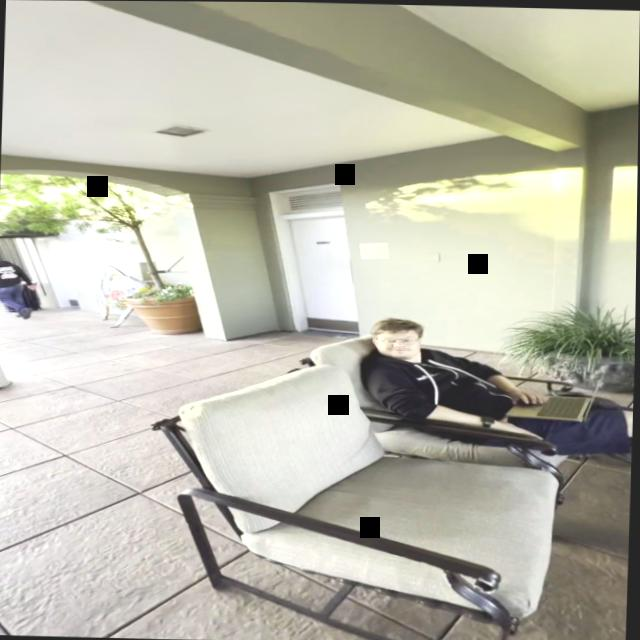NO-Mask: (377, 326, 421, 358)
